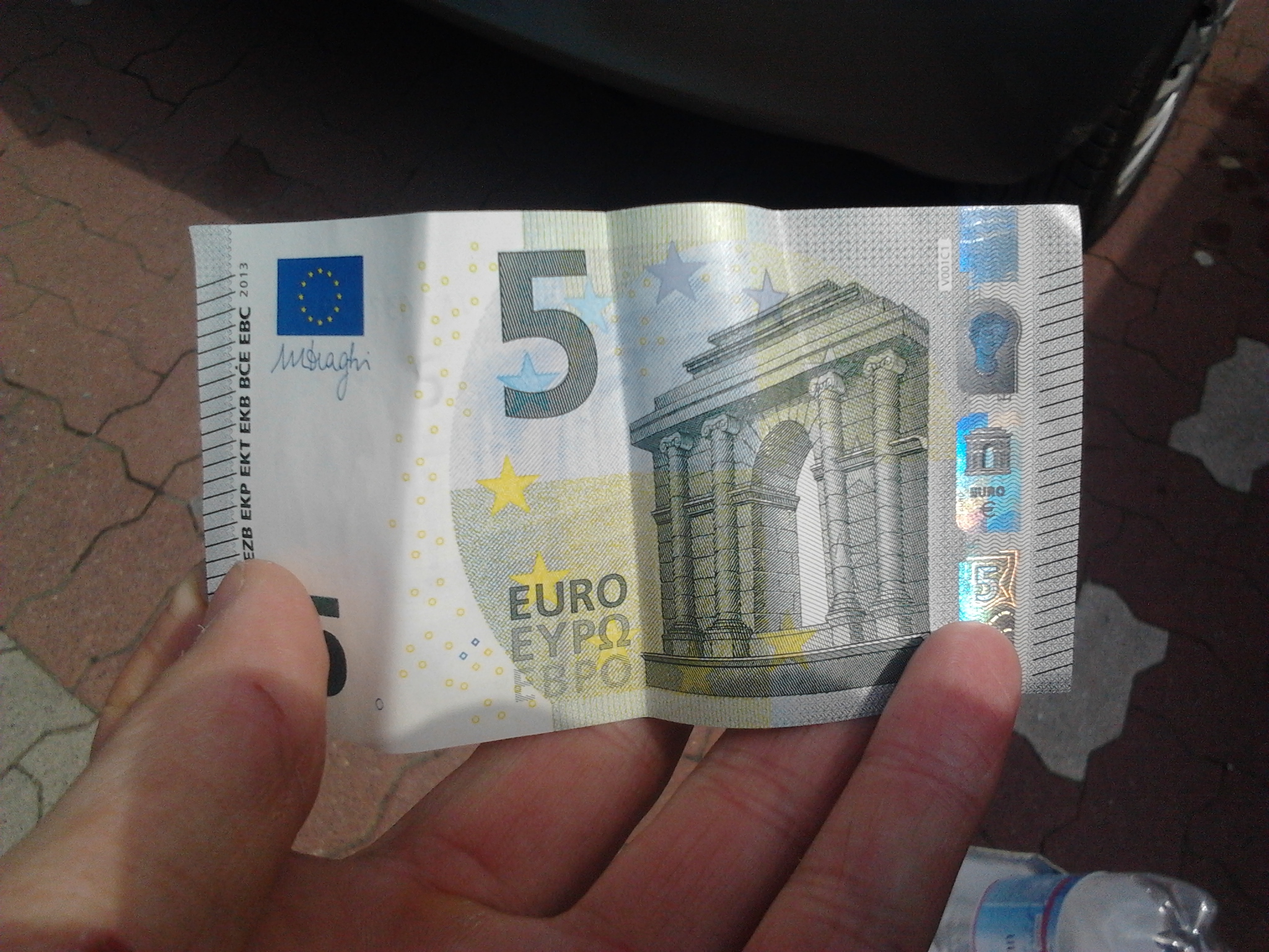Nota de 5€: (173, 193, 1107, 759)
